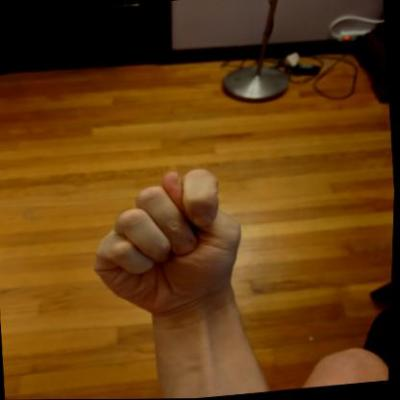hand: (80, 161, 258, 326)
